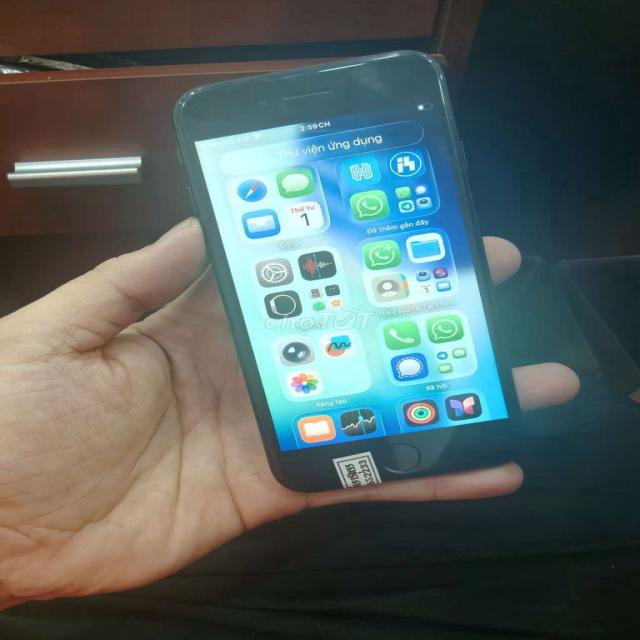gen_7_8: (160, 44, 539, 496)
